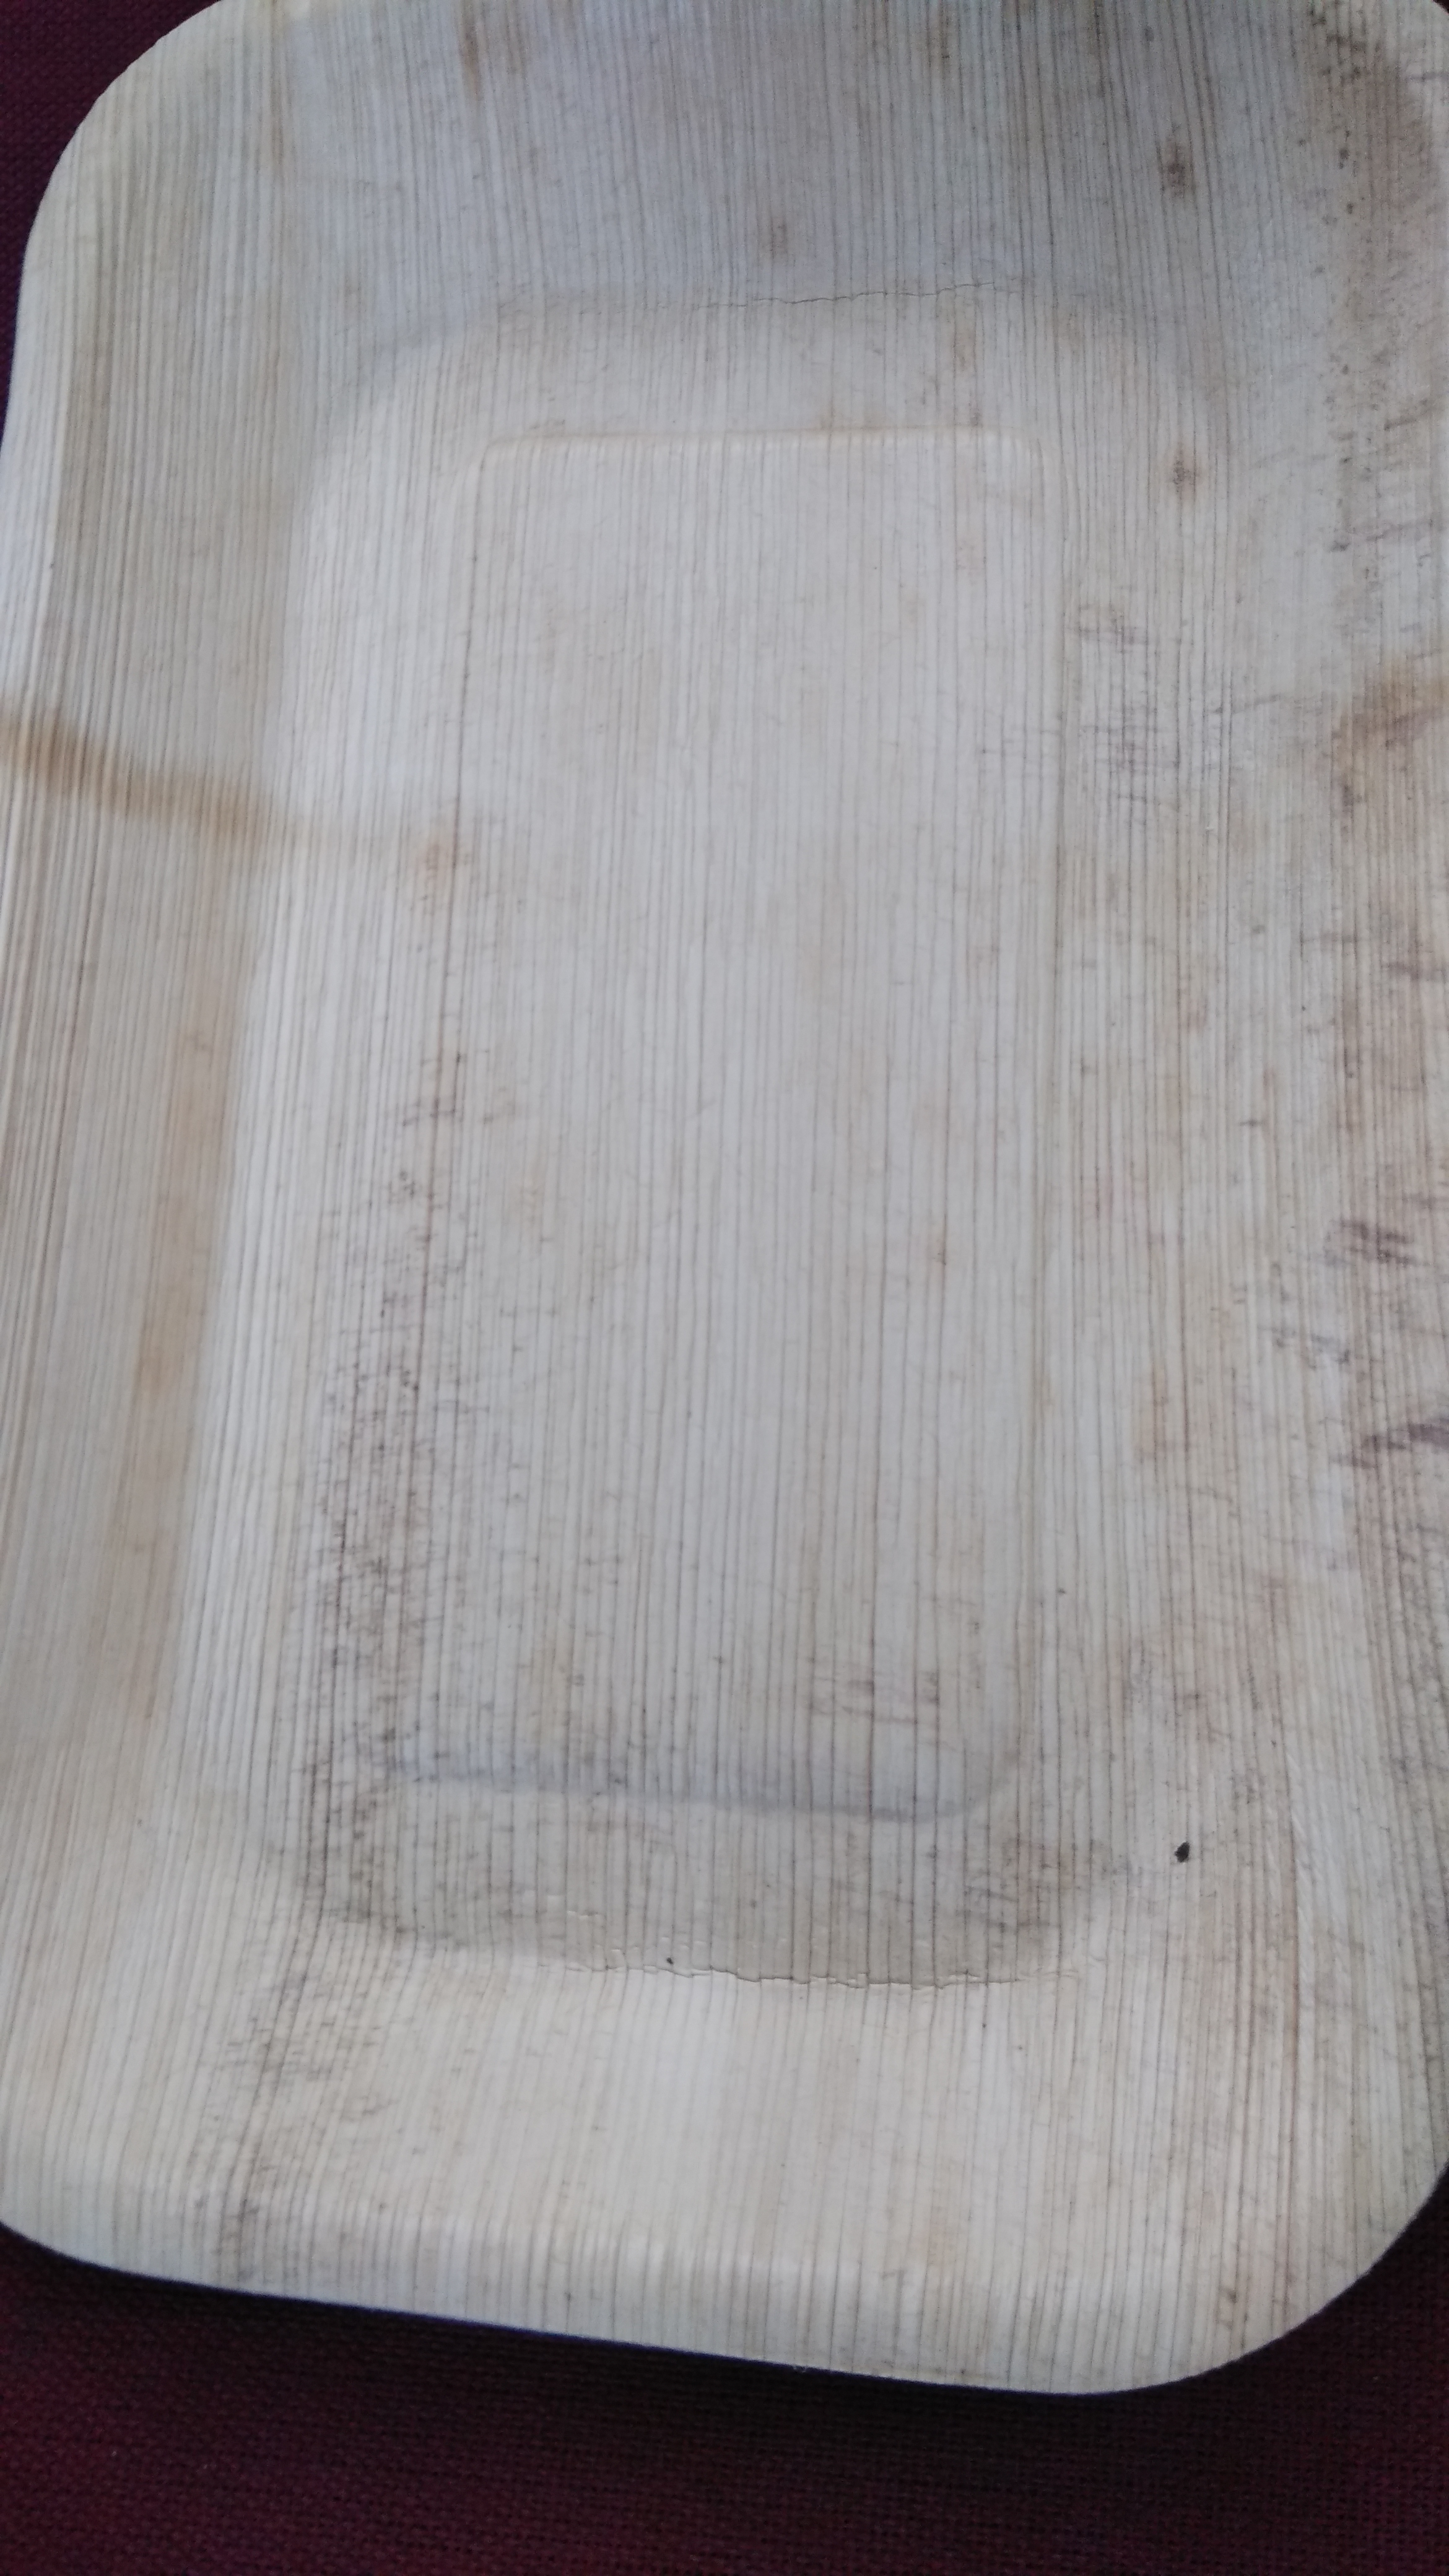areca plate: (25, 0, 1449, 2328)
